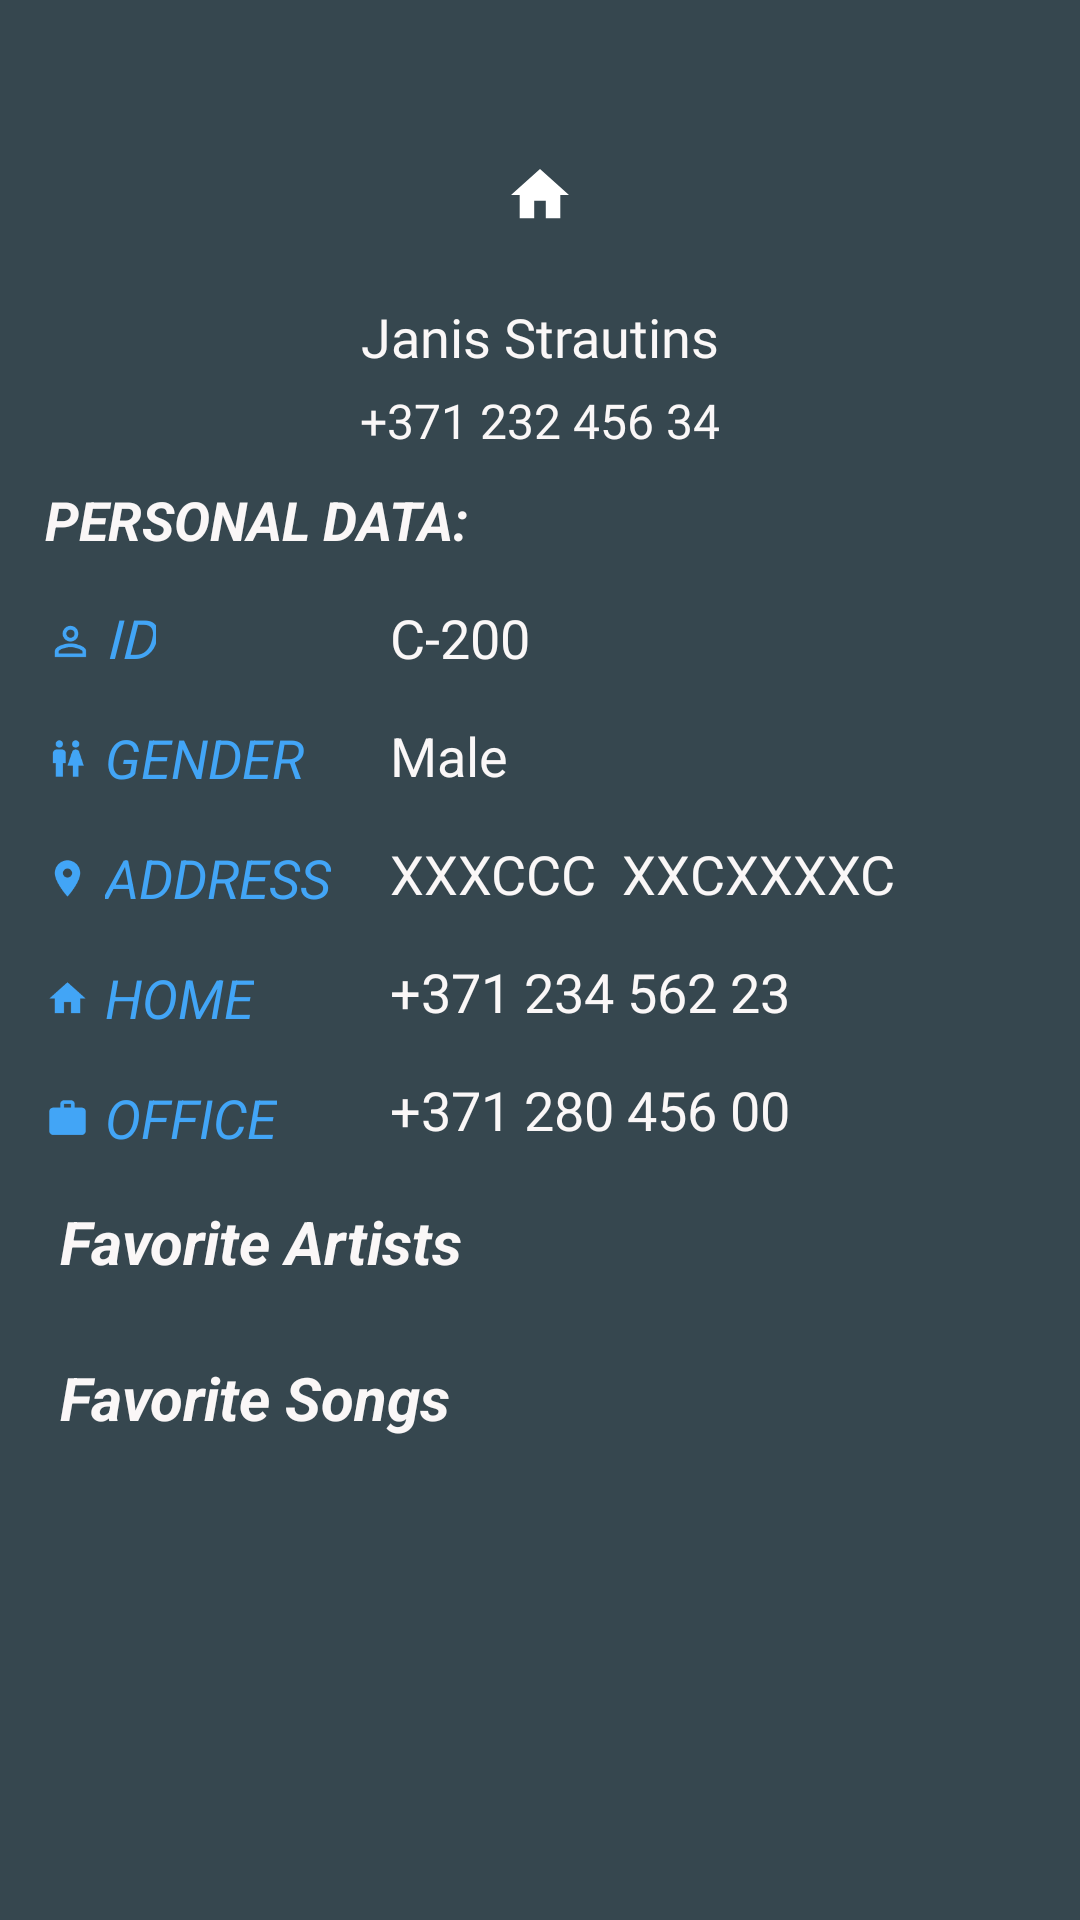

Where to tap for icons on this 1080px x 1920px app screen, as (x,y):
home: (540,194)
